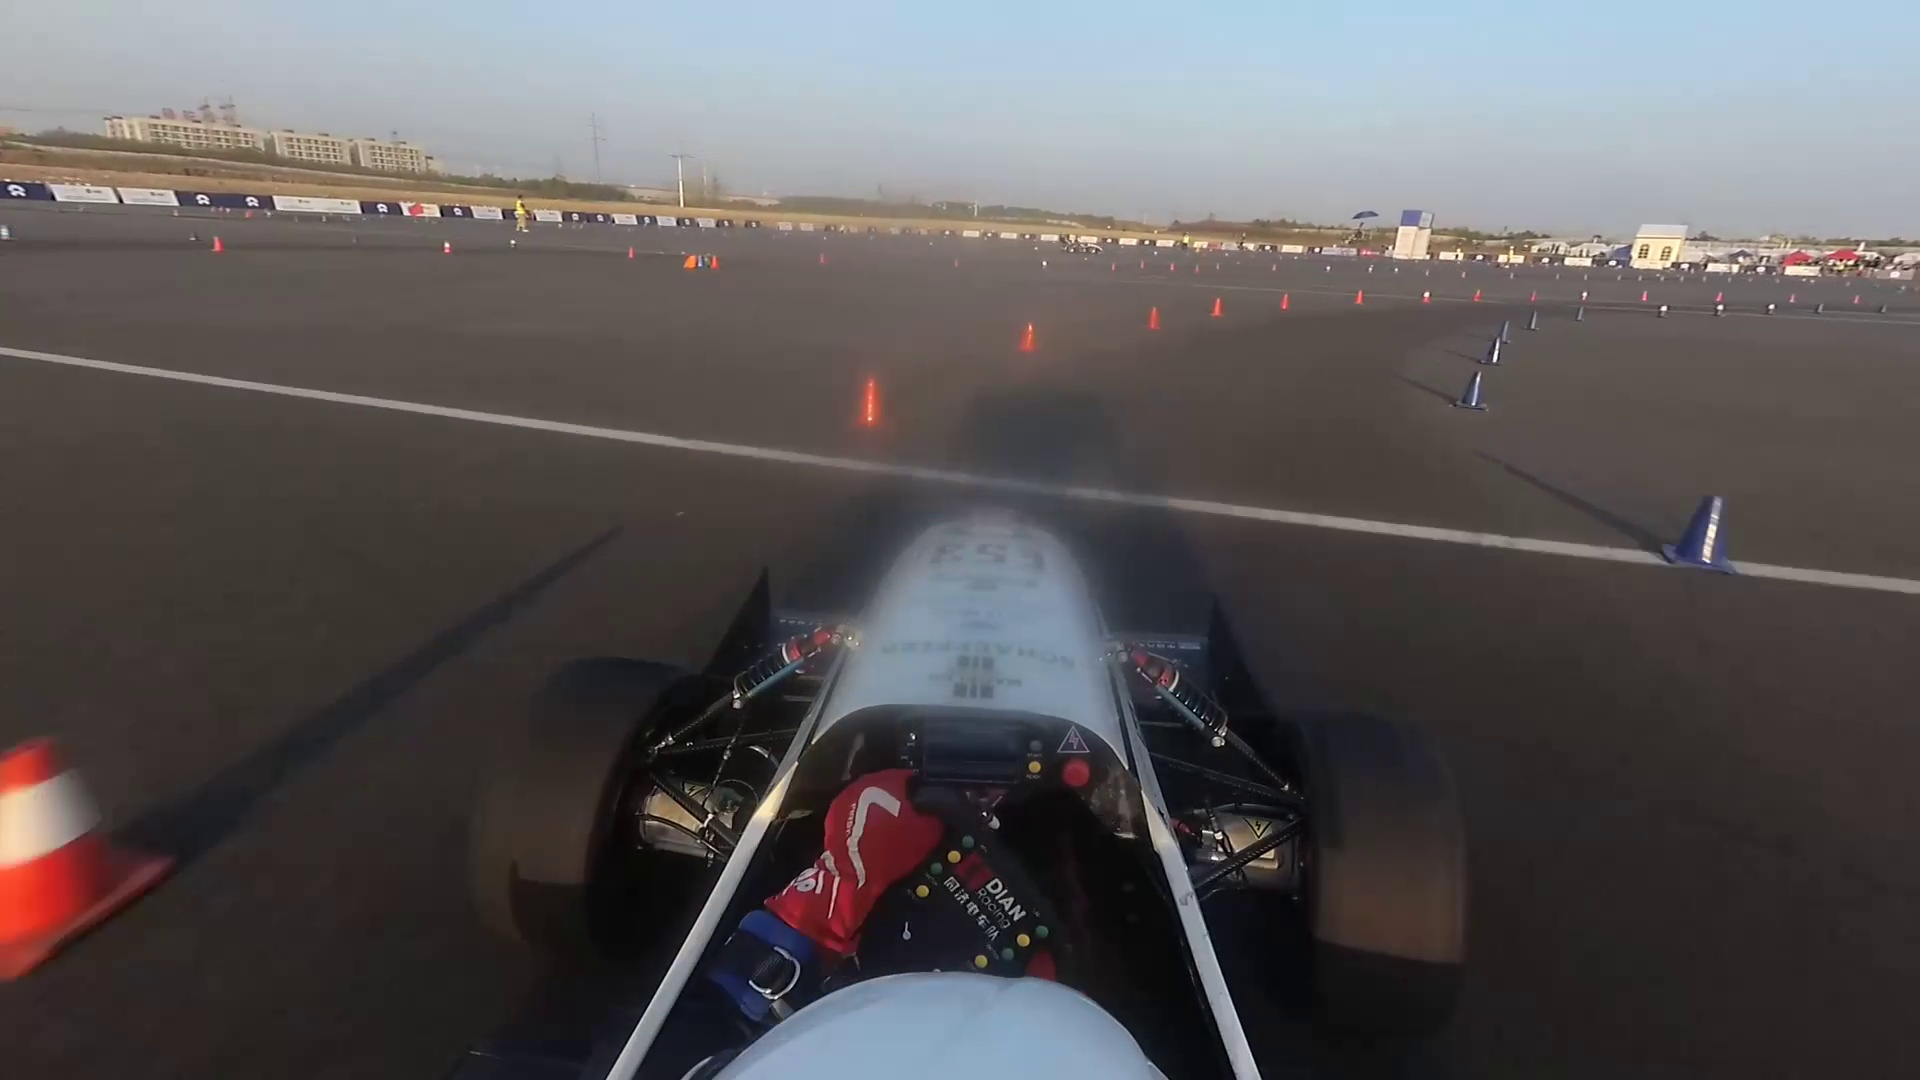blue_cone: (1668, 498, 1734, 572), (1460, 372, 1484, 409), (1484, 342, 1503, 367), (1499, 320, 1510, 345), (1528, 309, 1540, 330), (1575, 306, 1585, 324), (1658, 305, 1669, 320), (3, 223, 13, 240), (348, 233, 360, 245), (1876, 302, 1887, 315), (1714, 305, 1725, 318), (189, 229, 199, 243), (1815, 303, 1825, 315), (1766, 305, 1776, 316), (509, 236, 517, 249)
red_cone: (7, 741, 125, 988), (853, 378, 897, 439), (1011, 320, 1040, 363), (1147, 305, 1162, 331), (1207, 299, 1225, 319), (1279, 293, 1292, 313), (211, 236, 224, 252), (1354, 287, 1366, 305), (1422, 289, 1433, 303), (442, 241, 452, 255), (1472, 290, 1482, 301), (1527, 291, 1538, 302), (1640, 290, 1648, 302), (1789, 291, 1796, 305), (629, 245, 636, 258), (819, 253, 828, 262), (1582, 290, 1590, 301), (1716, 290, 1722, 301), (1853, 294, 1859, 303)
